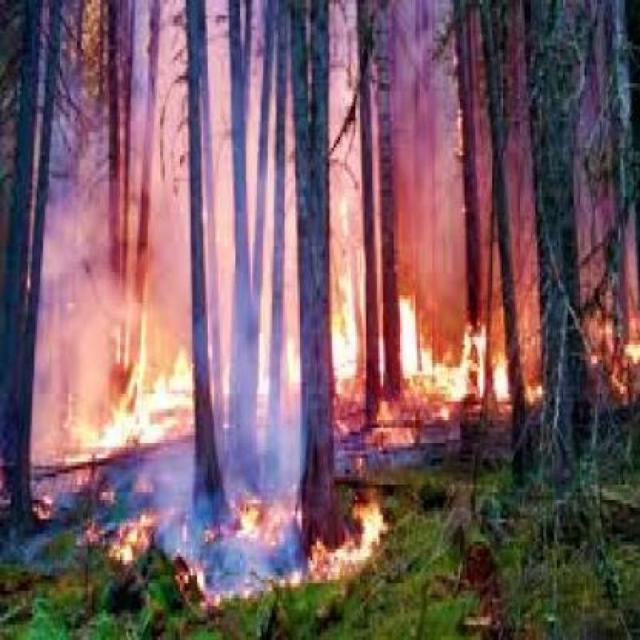Fire: (0, 283, 640, 571)
